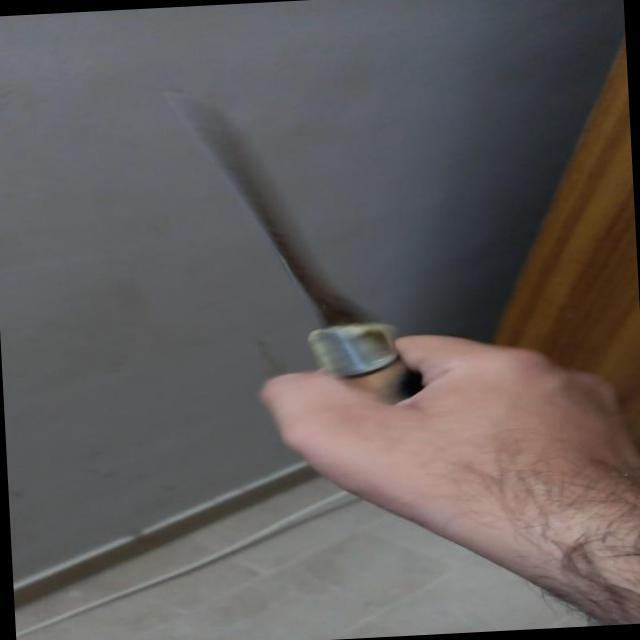Knife: (132, 62, 458, 437)
